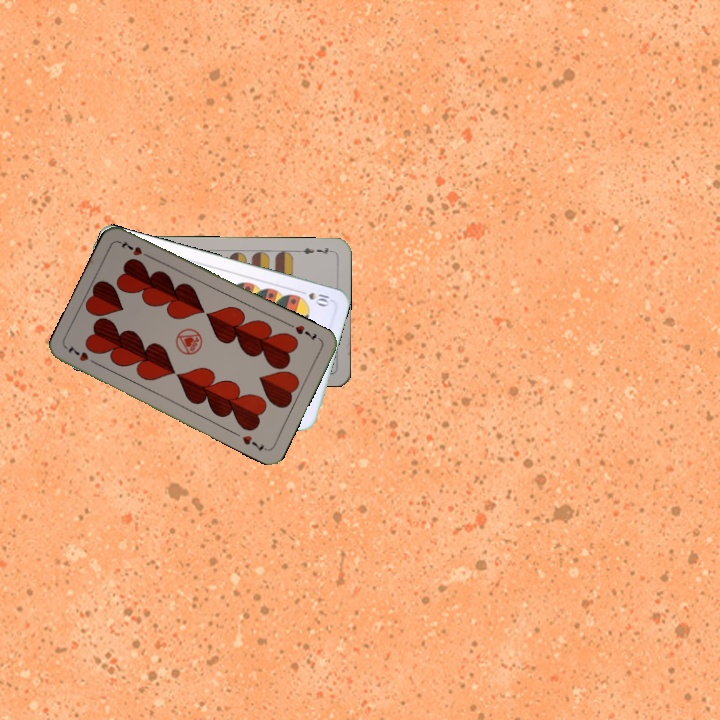E7: (295, 243, 335, 257)
H7: (63, 341, 101, 368), (291, 321, 319, 344)
S10: (294, 286, 332, 308)
